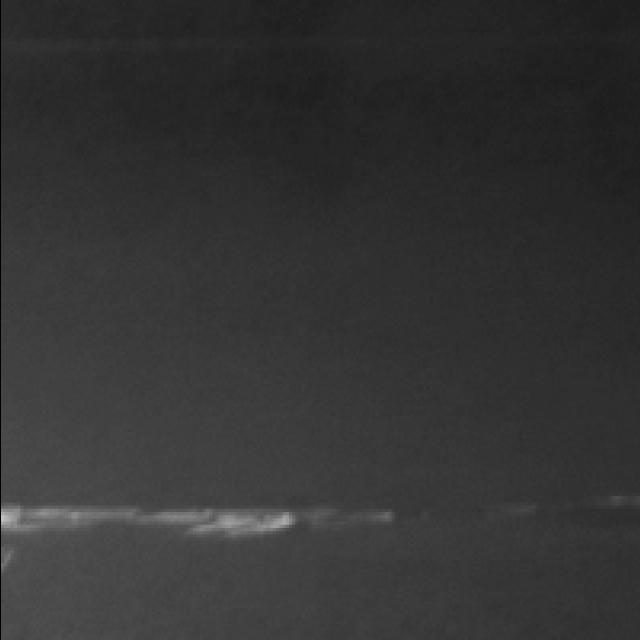scratches: (0, 492, 375, 541), (587, 483, 638, 517)
